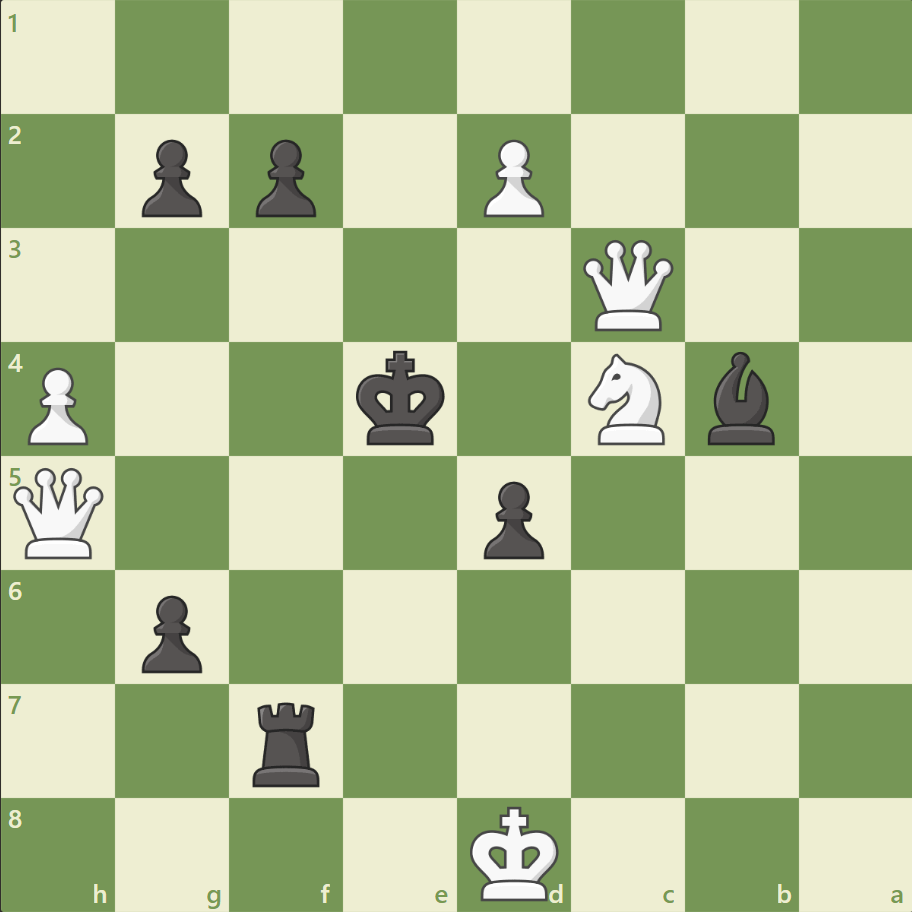K: (465, 798, 565, 906)
N: (579, 348, 676, 450)
P: (20, 359, 95, 450), (474, 132, 549, 223)
Q: (10, 463, 109, 562), (578, 236, 677, 335)
b: (698, 347, 782, 449)
k: (351, 344, 451, 452)
p: (133, 586, 208, 677), (474, 473, 549, 564), (247, 132, 322, 223), (133, 132, 208, 223)
r: (246, 693, 329, 790)
